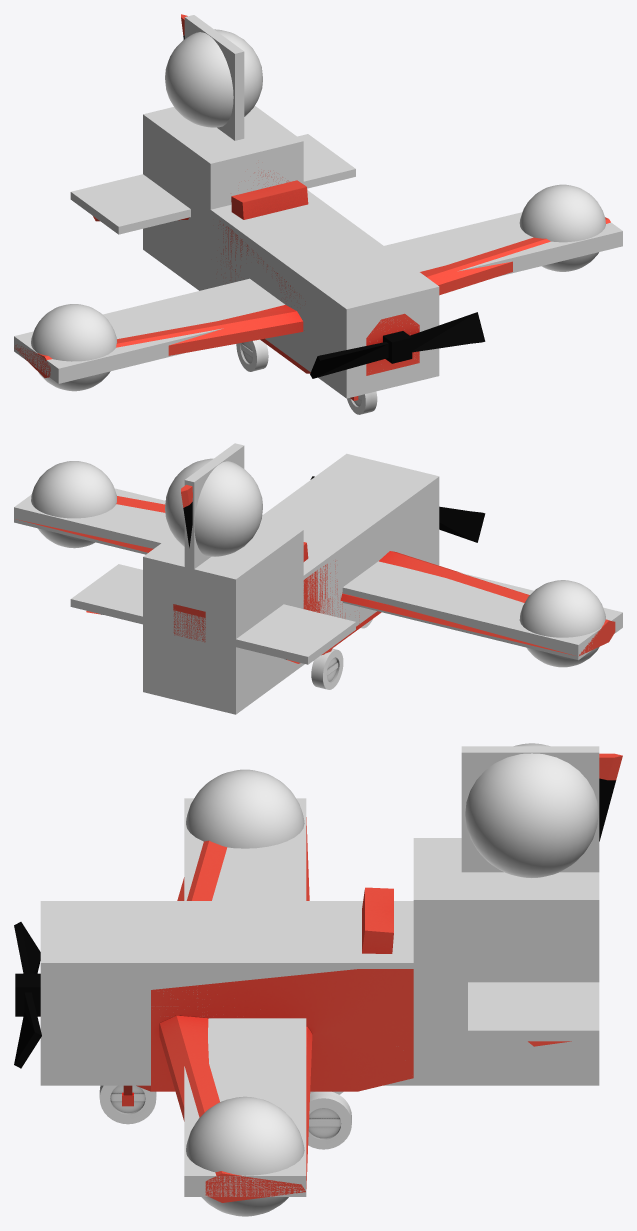
The model's file is airplane.glb.
The picture shows the model from 3 angles, top to bottom: view 1: azimuth 30°, elevation 25°; view 2: azimuth 150°, elevation 25°; view 3: azimuth 270°, elevation 25°; orthographic projection. The views are drawn at different scales.
Visible parts, largest first — view 1: Cube.008, body, Cube.009, Cube.014, Cube.013, Sphere.004, Sphere.002, Sphere.003, Cube.012, rotor, Cube.010, Cube.011 (+1 smaller); view 2: Cube.008, Cube.009, Cube.014, Sphere.004, body, Cube.013, Sphere.002, Sphere.003, Cube.012, Cube.011, Cube.010, rotor (+3 smaller); view 3: Cube.008, body, Cube.009, Sphere.004, Cube.013, Sphere.003, Cube.011, Sphere.002, Cube.014, Cube.010, rotor, wheel_fl.001 (+1 smaller).
Part boxes in pixels (left/top/right/bottom): Cube.008: left=143, top=160, right=439, bottom=398; body: left=14, top=14, right=610, bottom=400; Cube.009: left=143, top=106, right=303, bottom=209; Cube.014: left=14, top=278, right=284, bottom=383; Cube.013: left=384, top=212, right=622, bottom=276; Sphere.004: left=165, top=29, right=262, bottom=127; Sphere.002: left=31, top=304, right=116, bottom=391; Sphere.003: left=519, top=184, right=605, bottom=271; Cube.012: left=70, top=174, right=190, bottom=234; rotor: left=310, top=312, right=485, bottom=378; Cube.010: left=184, top=15, right=244, bottom=140; Cube.011: left=297, top=134, right=355, bottom=188; Cube.008: left=143, top=453, right=439, bottom=714; Cube.009: left=143, top=520, right=303, bottom=625; Cube.014: left=342, top=561, right=622, bottom=660; Sphere.004: left=165, top=458, right=262, bottom=556; body: left=16, top=484, right=615, bottom=663; Cube.013: left=14, top=488, right=172, bottom=554; Sphere.002: left=519, top=580, right=605, bottom=667; Sphere.003: left=31, top=461, right=116, bottom=548; Cube.012: left=236, top=604, right=355, bottom=664; Cube.011: left=70, top=564, right=142, bottom=624; Cube.010: left=184, top=443, right=244, bottom=569; rotor: left=310, top=476, right=485, bottom=542; Cube.008: left=40, top=901, right=599, bottom=1085; body: left=122, top=753, right=622, bottom=1202; Cube.009: left=413, top=838, right=599, bottom=962; Sphere.004: left=465, top=743, right=598, bottom=877; Cube.013: left=184, top=1018, right=306, bottom=1196; Sphere.003: left=186, top=1096, right=304, bottom=1216; Cube.011: left=468, top=982, right=599, bottom=1041; Sphere.002: left=186, top=769, right=304, bottom=848; Cube.014: left=184, top=798, right=306, bottom=900; Cube.010: left=461, top=746, right=599, bottom=872; rotor: left=14, top=922, right=41, bottom=1068; wheel_fl.001: left=308, top=1091, right=351, bottom=1149.
Bounding box in the file's own units: 3.56 × 1.63 × 2.43.
Materials: 2 (2 with a texture image).
